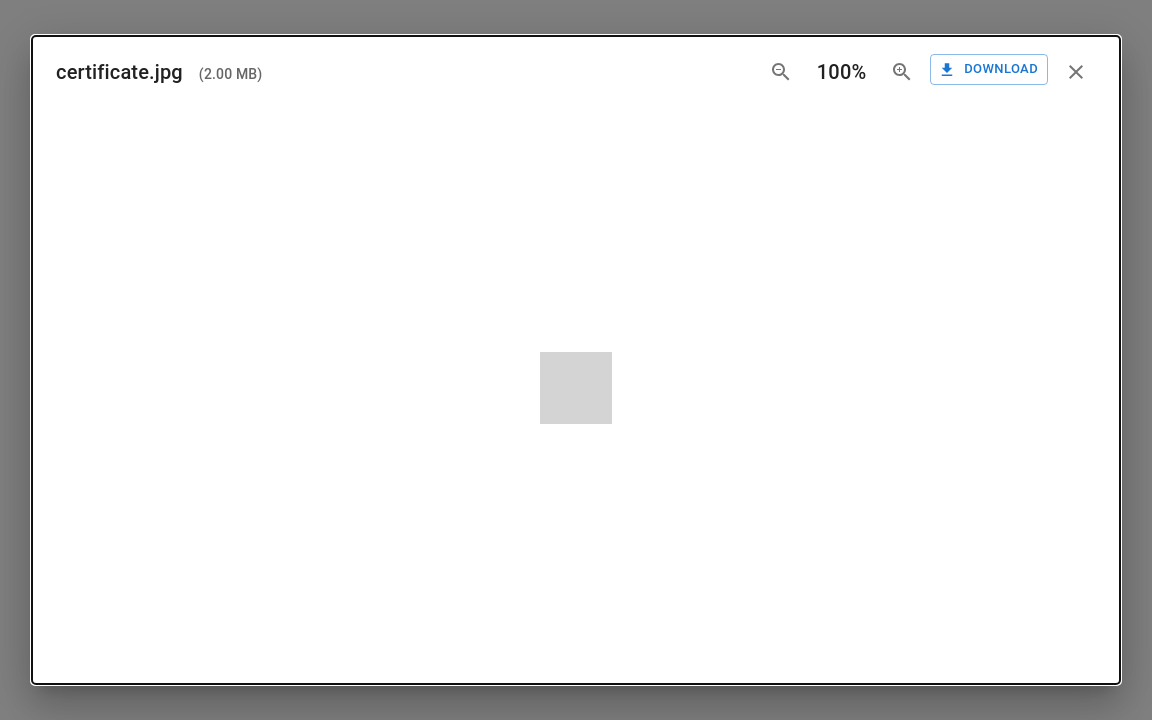
it: CACDocumentPreview Component › Image rendering with zoom › should zoom in when zoom in button is clicked
expect the text "100%" is shown: met, box [817, 60, 866, 84]
Click the button named "Zoom In": click(902, 72) [882, 52, 922, 92]
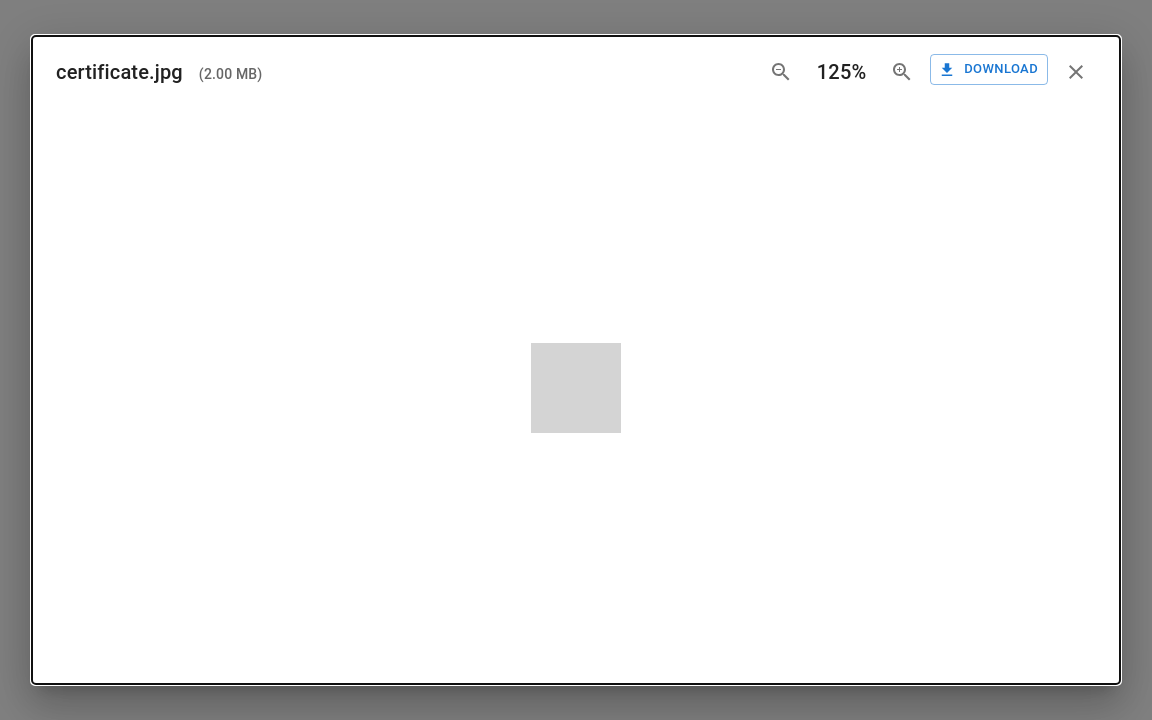
expect the text "125%" is shown: met, box [817, 60, 866, 84]
